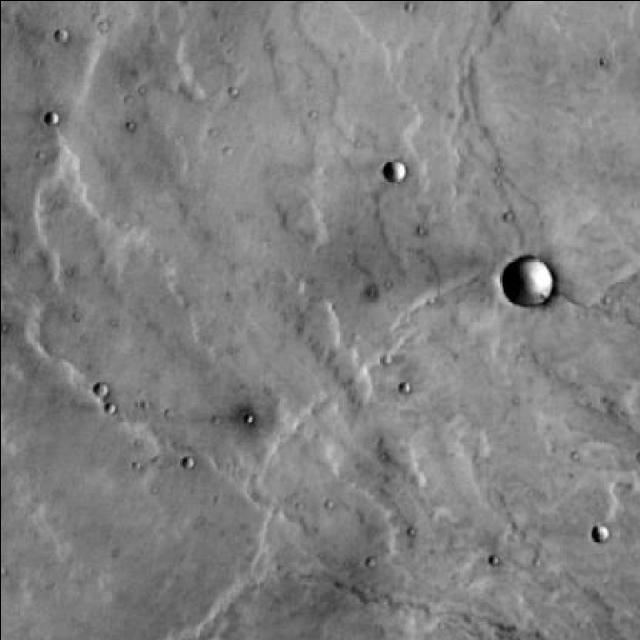crater: (502, 253, 553, 302), (383, 162, 408, 186), (594, 526, 611, 542)
